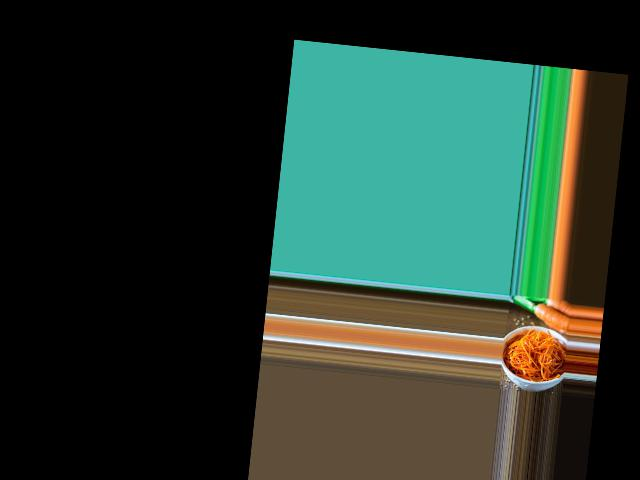carrot: (530, 304, 570, 329)
